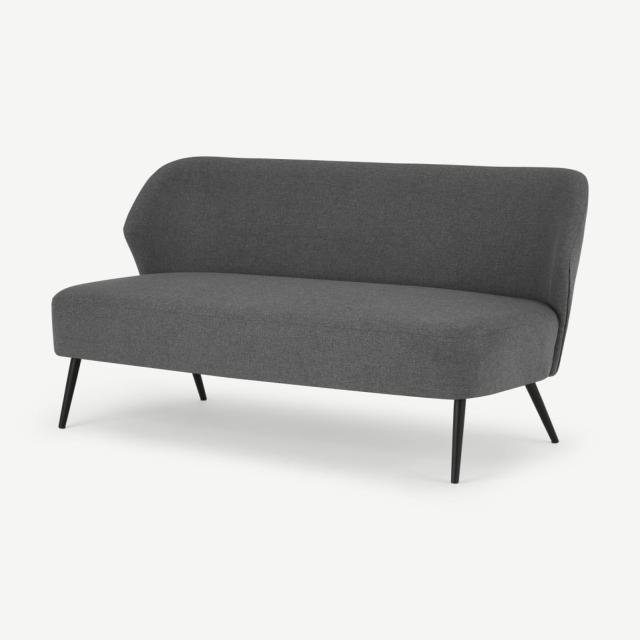Soffa: (49, 158, 596, 488)
